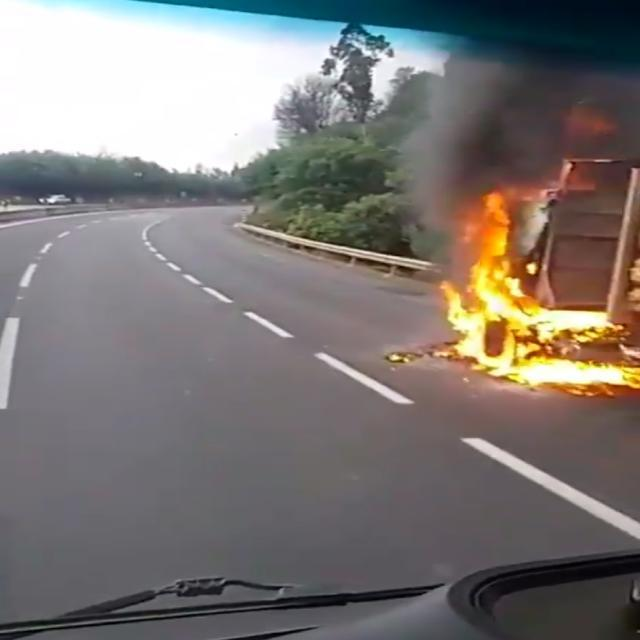Fire: (448, 311, 640, 394), (446, 188, 535, 310)
Smoke: (408, 64, 640, 185)
